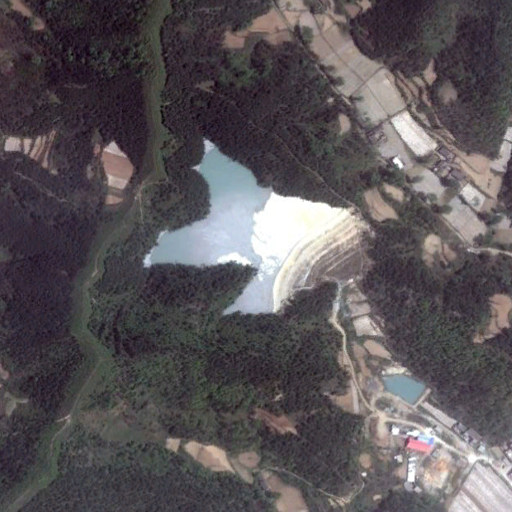tp: (144, 137, 366, 314)
